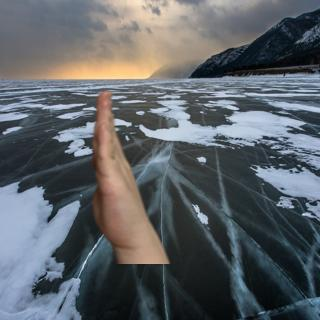RIGHT: (85, 88, 155, 250)
